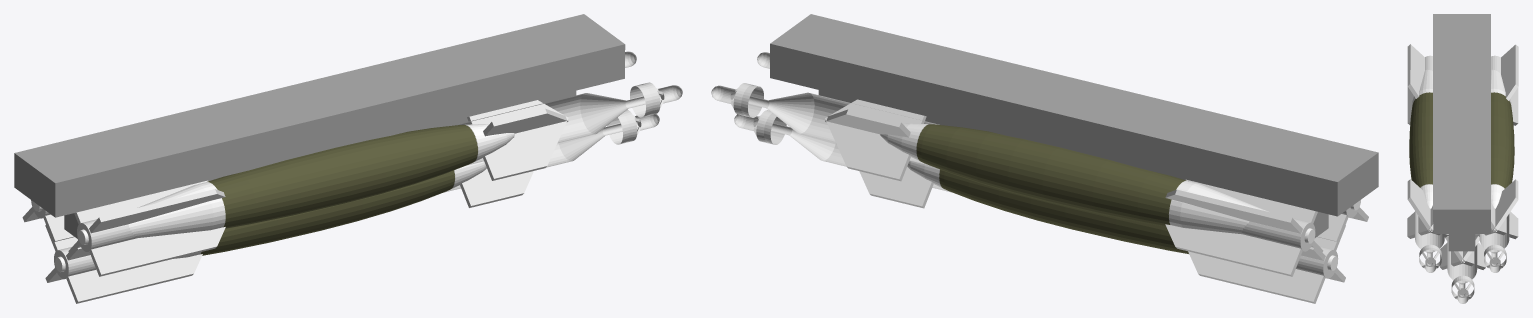
File: f15cgbu122.glb
3 views of the same model, side by side, from view 1: azimuth 30°, elevation 25°; view 2: azimuth 150°, elevation 25°; view 3: azimuth 270°, elevation 25° (orthographic). The views are drawn at different scales.
Visible parts, largest first — view 1: 立方体.011, 円柱.010, 円柱.012, 円柱.011; view 2: 立方体.011, 円柱.011, 円柱.012, 円柱.010; view 3: 立方体.011, 円柱.011, 円柱.010, 円柱.012.
Part boxes in pixels (bbox=[...]): 立方体.011: bbox=[14, 14, 625, 238]; 円柱.010: bbox=[68, 82, 682, 276]; 円柱.012: bbox=[45, 109, 659, 303]; 円柱.011: bbox=[22, 51, 636, 242]; 立方体.011: bbox=[770, 14, 1378, 237]; 円柱.011: bbox=[711, 83, 1323, 276]; 円柱.012: bbox=[734, 110, 1345, 303]; 円柱.010: bbox=[757, 52, 1368, 242]; 立方体.011: bbox=[1433, 14, 1490, 251]; 円柱.011: bbox=[1475, 44, 1518, 272]; 円柱.010: bbox=[1407, 44, 1448, 272]; 円柱.012: bbox=[1440, 236, 1485, 303].
Size of the model in its own units: 4.14 by 0.8418 by 0.9053.
3 materials, 1 textured.
